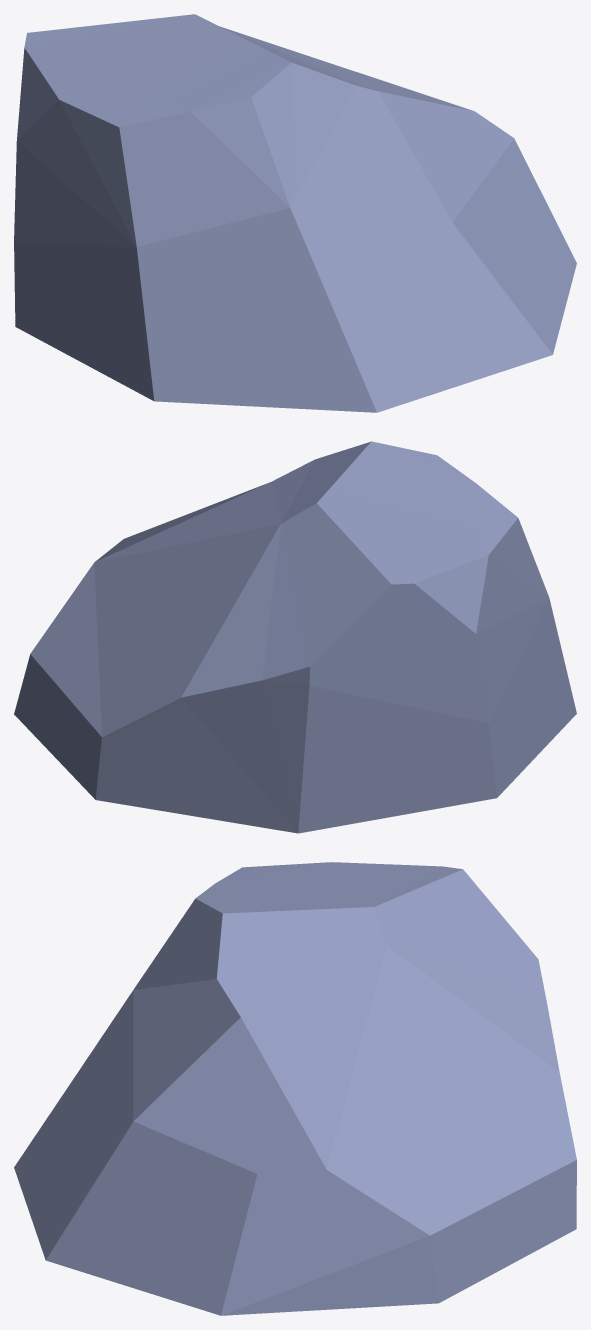
File: Rock_20.fbx
3 views of the same model, one above another, from view 1: azimuth 30°, elevation 25°; view 2: azimuth 150°, elevation 25°; view 3: azimuth 270°, elevation 25° (orthographic). The views are drawn at different scales.
Parts seen in each view (by area): view 1: Rock_20; view 2: Rock_20; view 3: Rock_20.
Part boxes in pixels (x1,y1,x2,y2): Rock_20: (14, 14, 576, 412); Rock_20: (14, 441, 576, 833); Rock_20: (14, 862, 576, 1315).
Bounding box in the file's own units: 6.65 × 3.51 × 6.74.
